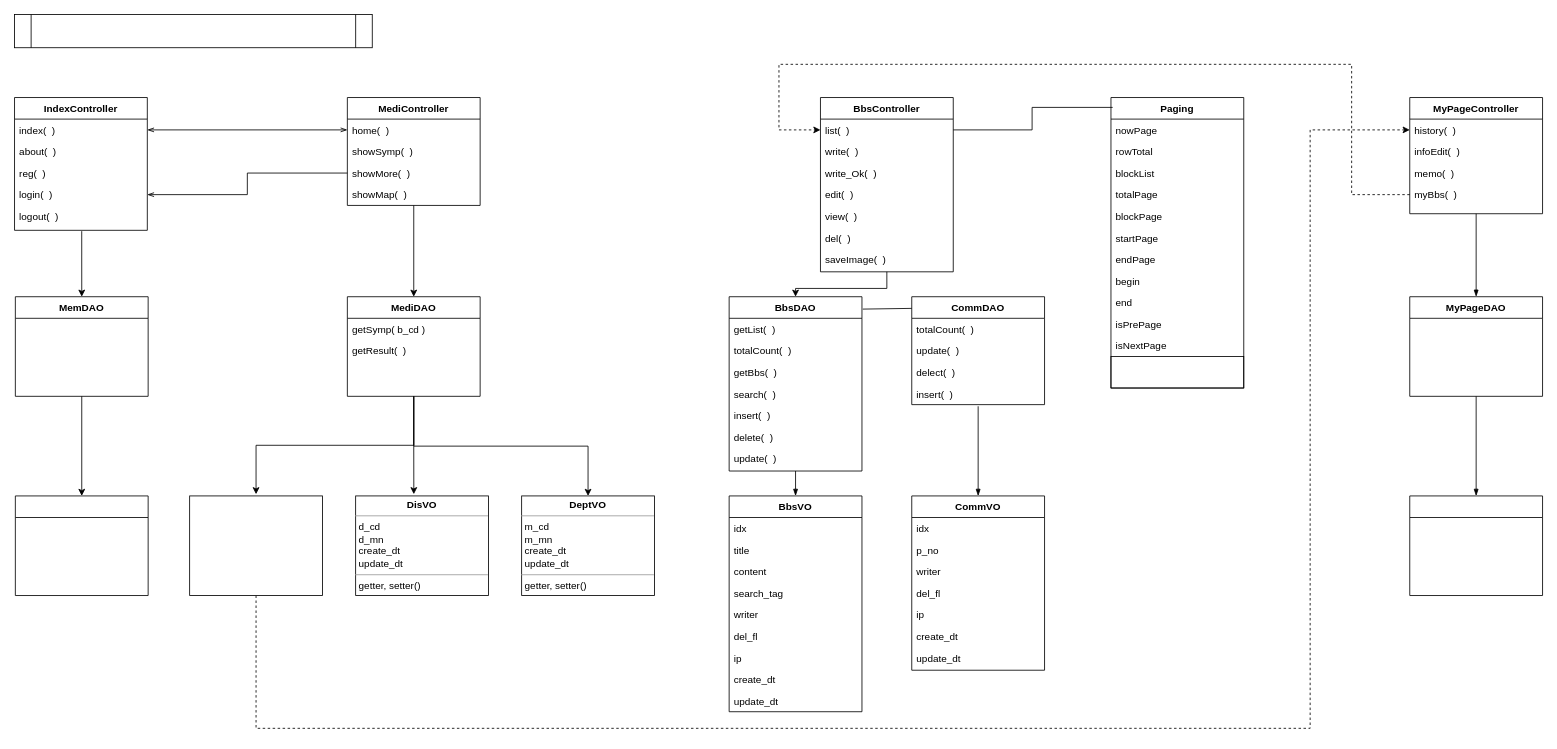
This 1557x749 diagram has some shape labels left out. The centre of each missing label's shape, as x and y in pixels:
"MediNote" belongs at [193,31].
"MemVO" belongs at [81,545].
"MyPageVO" belongs at [1476,545].
"Paging(nowPage, rowTotal, blockList, blockPage ){ }" belongs at [1177,372].
"SympVO s_cd s_mn create_dt update_dt getter, setter()" belongs at [255,545].
